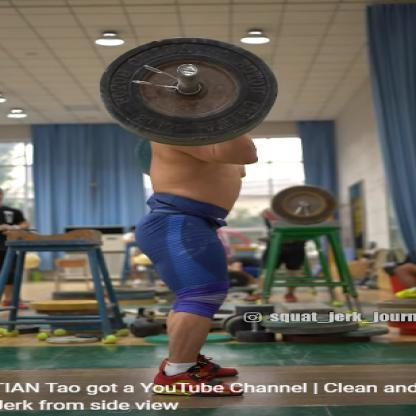barbell: (98, 34, 280, 147), (270, 184, 337, 226)
